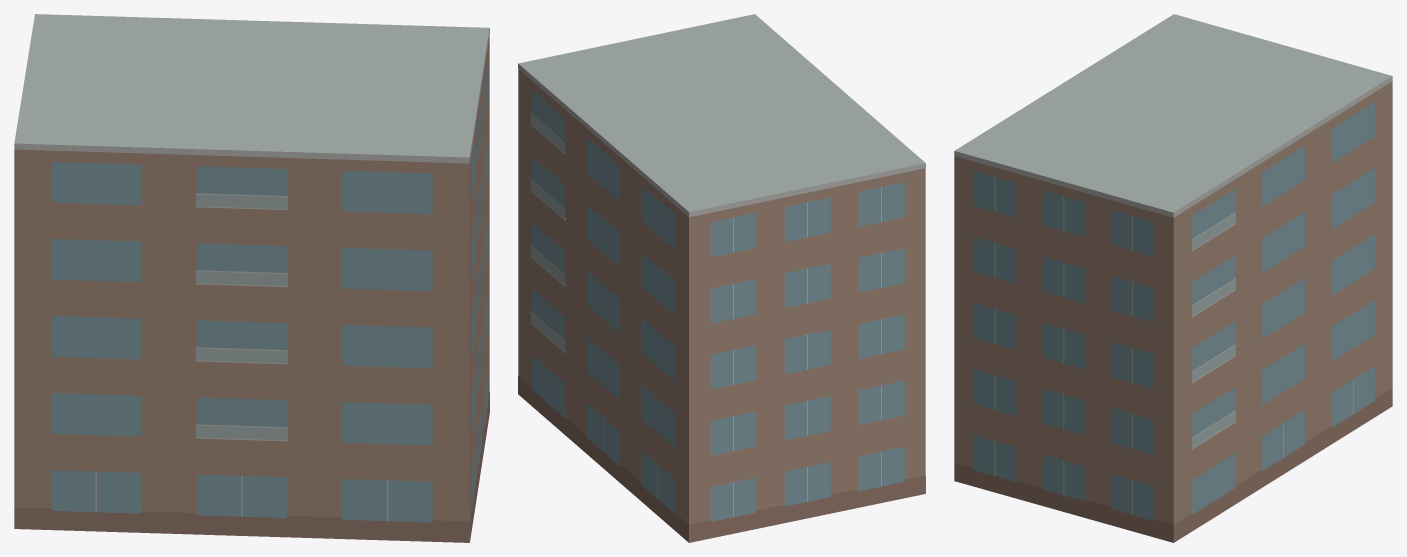
Rendered from survey-upis-32983012.glb.
3 renders of one model, left to right at view 1: azimuth 30°, elevation 25°; view 2: azimuth 150°, elevation 25°; view 3: azimuth 270°, elevation 25°, orthographic. The views are drawn at different scales.
Parts seen in each view (by area): view 1: survey-upis-32983012.tmp; view 2: survey-upis-32983012.tmp; view 3: survey-upis-32983012.tmp.
Part boxes in pixels (box(x1,y1,x2,y2)): survey-upis-32983012.tmp: box(14, 14, 489, 542); survey-upis-32983012.tmp: box(518, 14, 925, 542); survey-upis-32983012.tmp: box(954, 14, 1392, 542).
Bounding box in the file's own units: 20.4 × 15.8 × 19.02.
